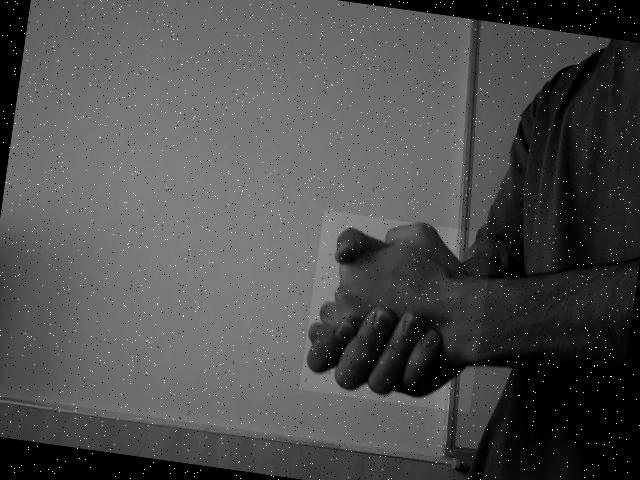friend: (304, 223, 477, 406)
